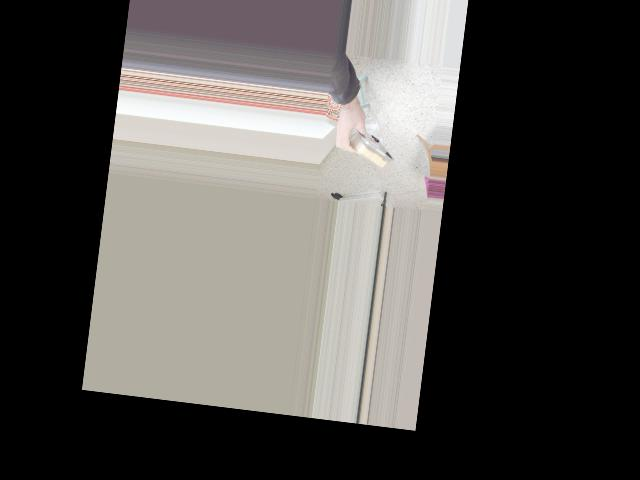cheese: (323, 114, 400, 179)
